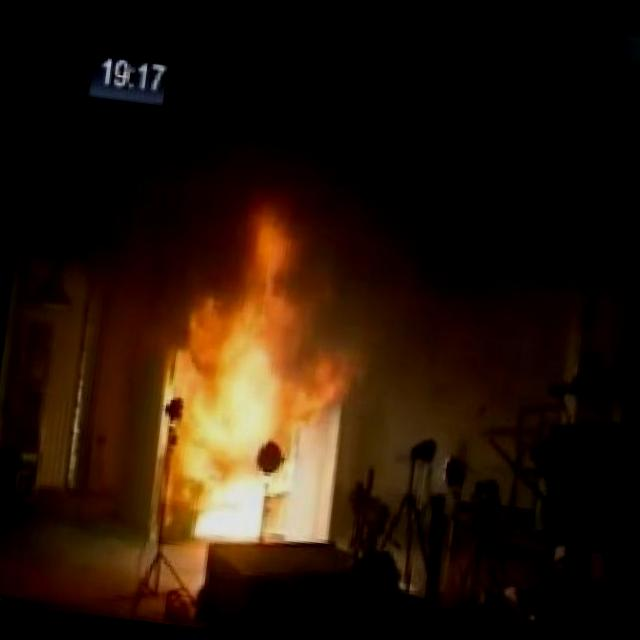fire: (153, 197, 356, 500)
smoke: (9, 0, 640, 307)
